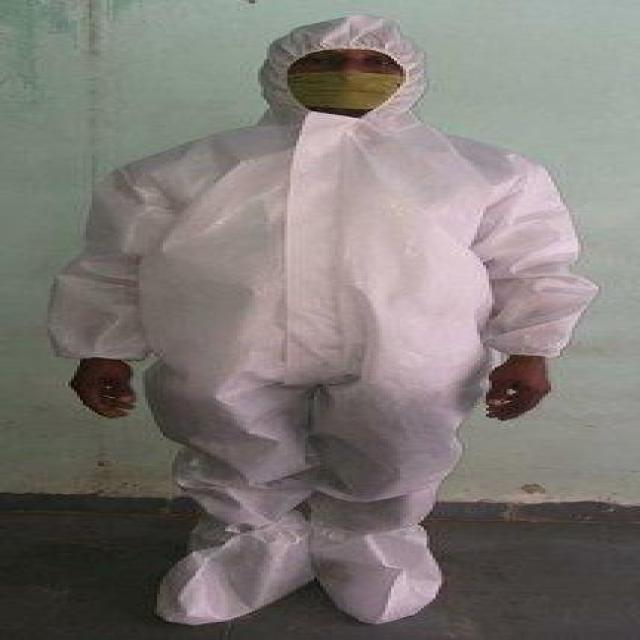Coverall: (36, 13, 611, 634)
Mask: (278, 69, 412, 109)
